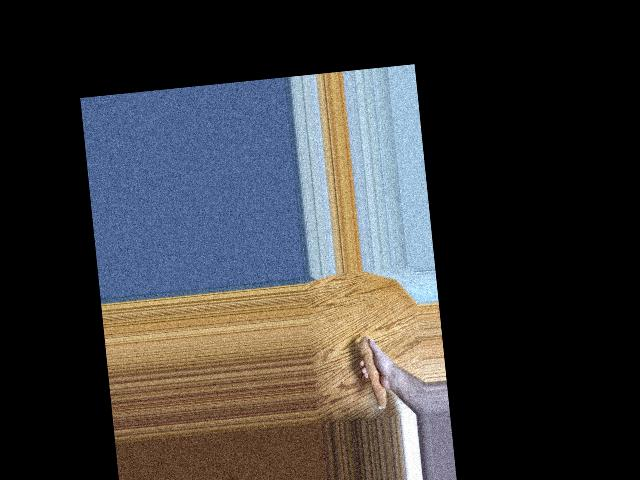sweet_potato: (357, 335, 391, 414)
